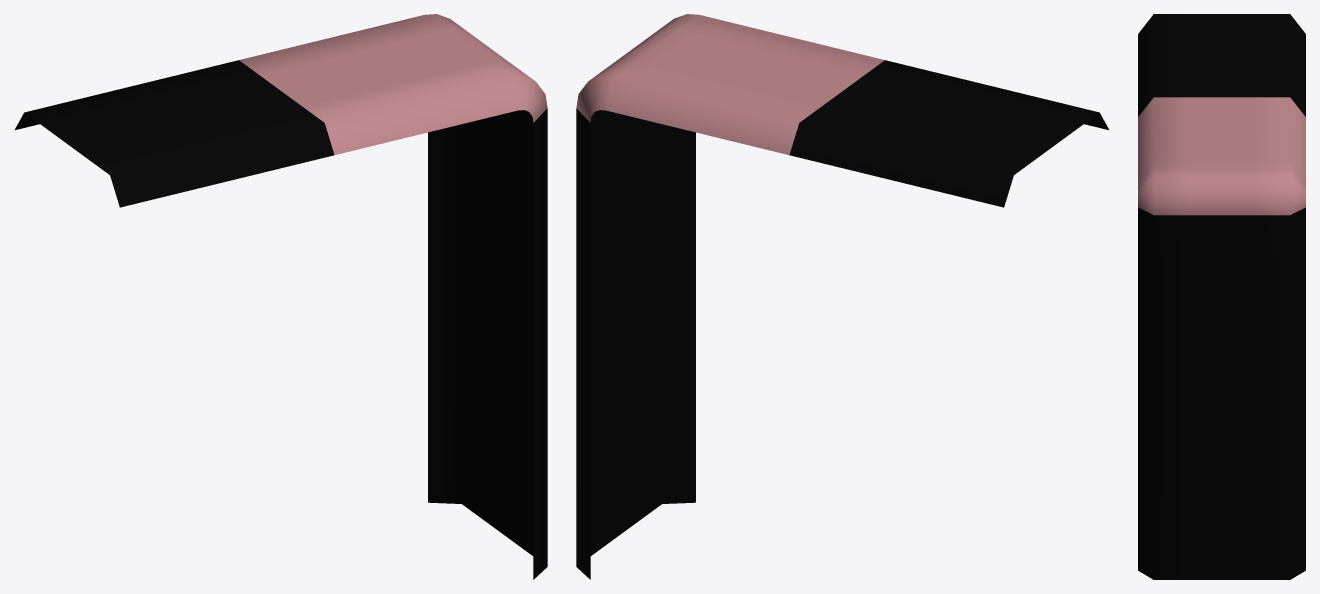
The model's file is SM_cascade_1.fbx.
3 renders of one model, left to right at view 1: azimuth 30°, elevation 25°; view 2: azimuth 150°, elevation 25°; view 3: azimuth 270°, elevation 25°, orthographic. The views are drawn at different scales.
Visible parts, largest first — view 1: SM_cascade_1; view 2: SM_cascade_1; view 3: SM_cascade_1.
Part boxes in pixels (x1,y1,x2,y2): SM_cascade_1: (15,14,547,579); SM_cascade_1: (576,14,1108,579); SM_cascade_1: (1138,14,1305,579).
Size of the model in its own units: 2937 by 3196 by 1227.
